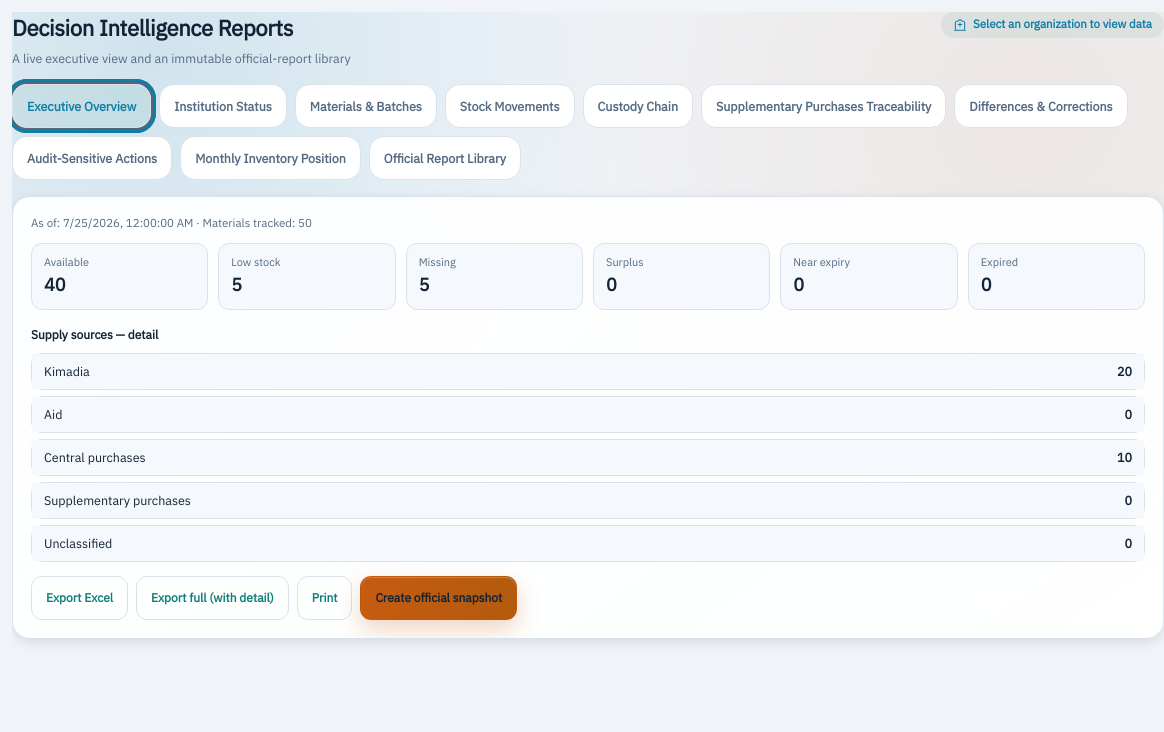
Test: PDA-PROC-1 · DIRC renders the supplementary tab only for a care institution › care institution: the tab is offered, opens, and reads for the care organization
Expected: the element with test id "executive-overview-tab" is shown, [12,196,1163,639]
Click the tab "Supplementary Purchases Traceability".
click(824, 106)  # box [701,84,946,128]
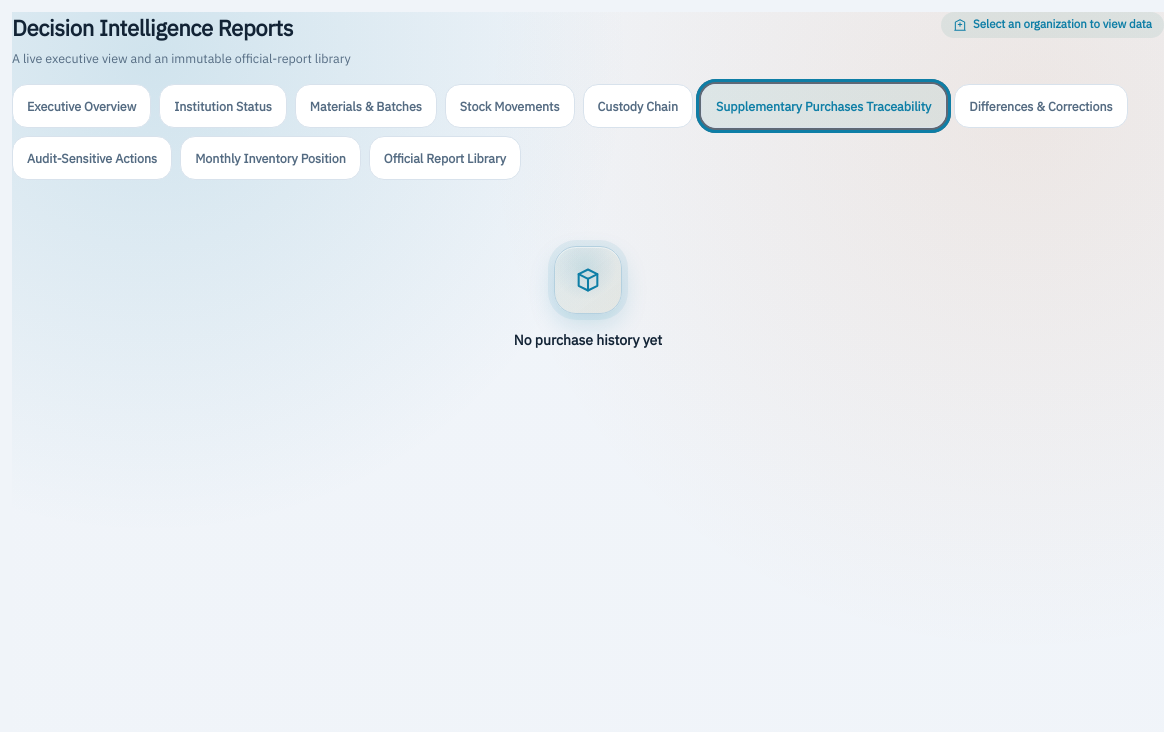
Expected: the element with test id "supplementary-purchases-tab" is shown, [514,246,662,352]
